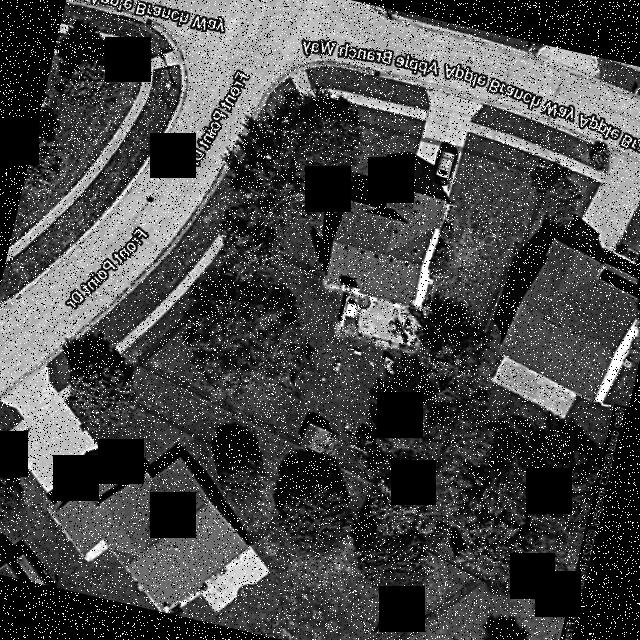Driveway: (393, 139, 462, 201)
Extra Driveway: (422, 88, 485, 146)
Extra Lawn: (470, 103, 569, 152), (331, 66, 429, 110), (463, 131, 556, 175), (320, 96, 425, 134)
Extra Sidewalk: (466, 120, 561, 162), (328, 87, 428, 119)
House: (327, 184, 447, 305)
Other: (336, 292, 419, 351), (302, 421, 333, 452), (360, 436, 386, 466)
